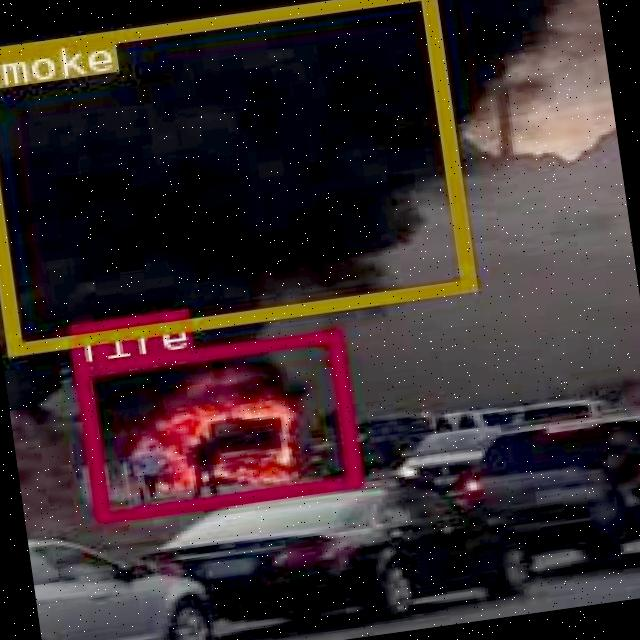fire: (72, 329, 358, 523)
smoke: (0, 0, 474, 354)
